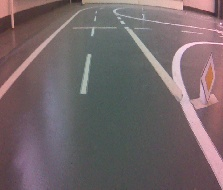priority road sign: (199, 51, 219, 104)
